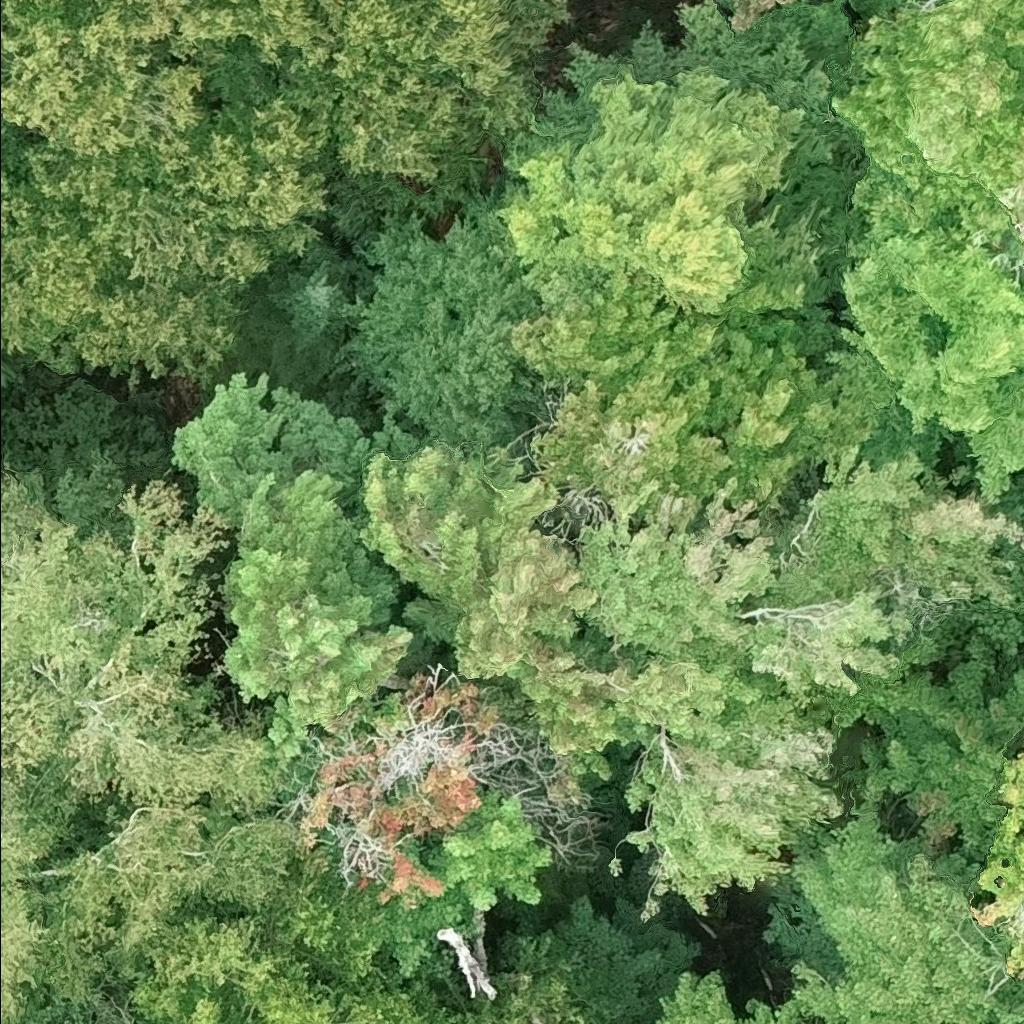crown: (0, 0, 335, 386), (508, 475, 903, 779), (0, 460, 288, 861), (511, 263, 873, 534), (489, 59, 840, 327), (652, 803, 1023, 1023), (357, 441, 604, 682), (219, 466, 412, 763), (822, 223, 1023, 506), (39, 788, 304, 1000), (311, 0, 575, 212), (606, 698, 845, 922), (829, 0, 1023, 264), (751, 443, 1023, 610), (294, 746, 485, 913), (126, 913, 381, 1023), (230, 234, 374, 384), (423, 778, 554, 913), (347, 971, 616, 1023), (0, 858, 56, 1023), (970, 749, 1023, 921), (714, 0, 804, 31), (0, 120, 19, 182), (1008, 945, 1023, 982)
